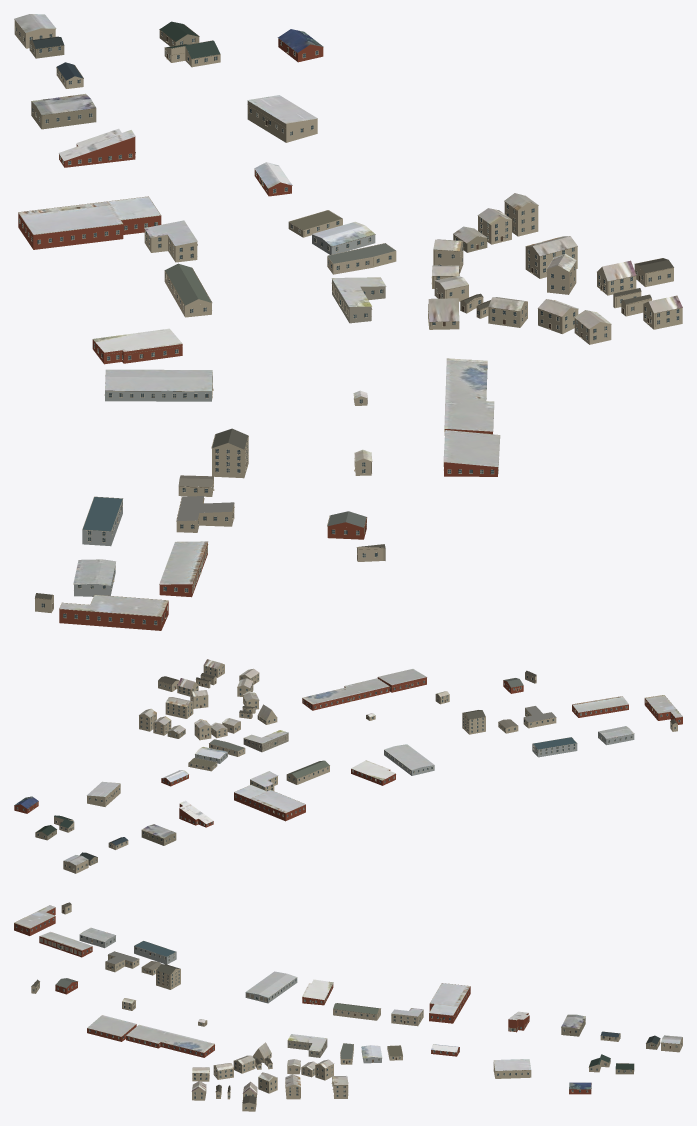
3 renders of one model, top to bottom at view 1: azimuth 30°, elevation 25°; view 2: azimuth 150°, elevation 25°; view 3: azimuth 270°, elevation 25°, orthographic. The views are drawn at different scales.
Visible parts, largest first — view 1: 1_-3_283027682_0, 1_-3_598637967_9, 1_-3_598637412_7, 1_-3_283027871_3, 1_-3_598639265_22; view 2: 1_-3_283027682_0, 1_-3_598637967_9, 1_-3_598637412_7, 1_-3_283027871_3, 1_-3_598639265_22, 1_-3_-8059_150; view 3: 1_-3_283027682_0, 1_-3_598637967_9, 1_-3_598637412_7, 1_-3_283027871_3, 1_-3_598639265_22.
Boxes of the visible parts, x1,y1,x2,y2 form: 1_-3_283027682_0: [14, 14, 682, 630]; 1_-3_598637967_9: [14, 20, 682, 612]; 1_-3_598637412_7: [30, 21, 673, 599]; 1_-3_283027871_3: [74, 234, 375, 596]; 1_-3_598639265_22: [29, 29, 487, 252]; 1_-3_283027682_0: [14, 659, 682, 870]; 1_-3_598637967_9: [54, 663, 677, 873]; 1_-3_598637412_7: [36, 670, 677, 860]; 1_-3_283027871_3: [195, 732, 634, 775]; 1_-3_598639265_22: [35, 729, 185, 865]; 1_-3_-8059_150: [243, 733, 288, 752]; 1_-3_283027682_0: [14, 903, 682, 1109]; 1_-3_598637967_9: [31, 904, 682, 1111]; 1_-3_598637412_7: [31, 902, 660, 1103]; 1_-3_283027871_3: [59, 935, 513, 1063]; 1_-3_598639265_22: [332, 1018, 660, 1086].
Bounding box in the file's own units: 374 × 27.27 × 506.
Materials: 16 (1 with a texture image).
